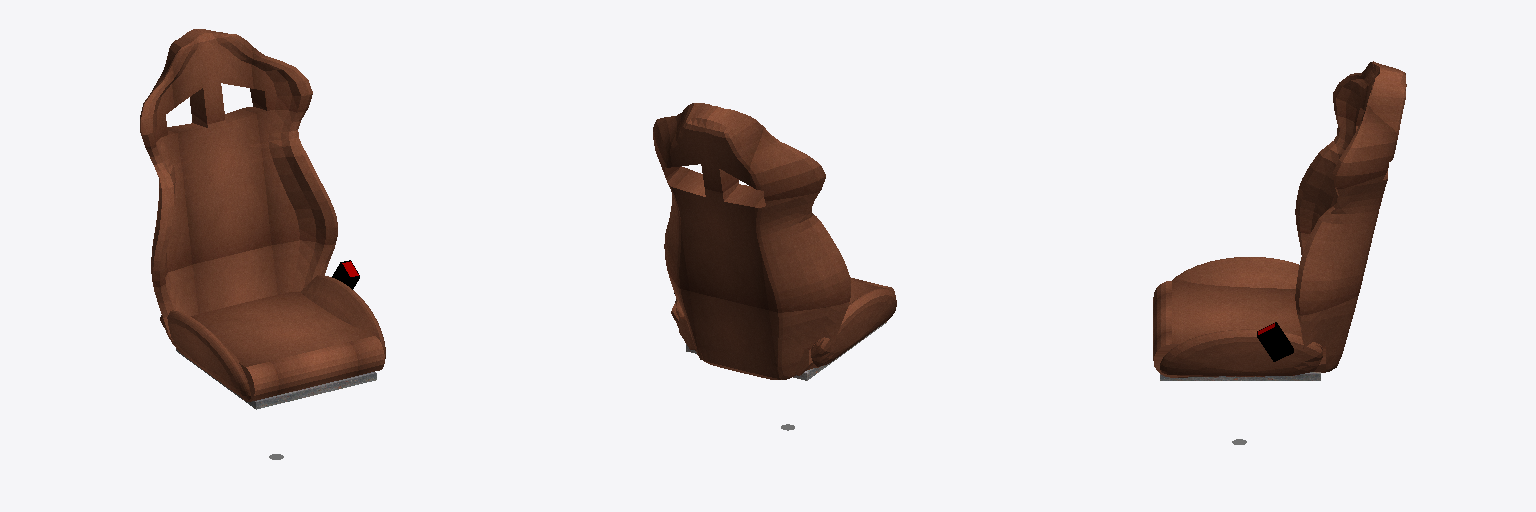
The picture shows the model from 3 angles: view 1: azimuth 30°, elevation 25°; view 2: azimuth 150°, elevation 25°; view 3: azimuth 270°, elevation 25°; orthographic projection.
Visible parts, largest first — view 1: tablerocontrol:polySurface10 sillacabina:polySurface27; view 2: tablerocontrol:polySurface10 sillacabina:polySurface27; view 3: tablerocontrol:polySurface10 sillacabina:polySurface27.
Boxes of the visible parts, x1,y1,x2,y2 form: tablerocontrol:polySurface10 sillacabina:polySurface27: [140, 29, 385, 459]; tablerocontrol:polySurface10 sillacabina:polySurface27: [653, 103, 896, 430]; tablerocontrol:polySurface10 sillacabina:polySurface27: [1153, 61, 1406, 444].
Bounding box in the file's own units: 0.2806 × 0.5362 × 0.3303.
Materials: 9 (4 with a texture image).